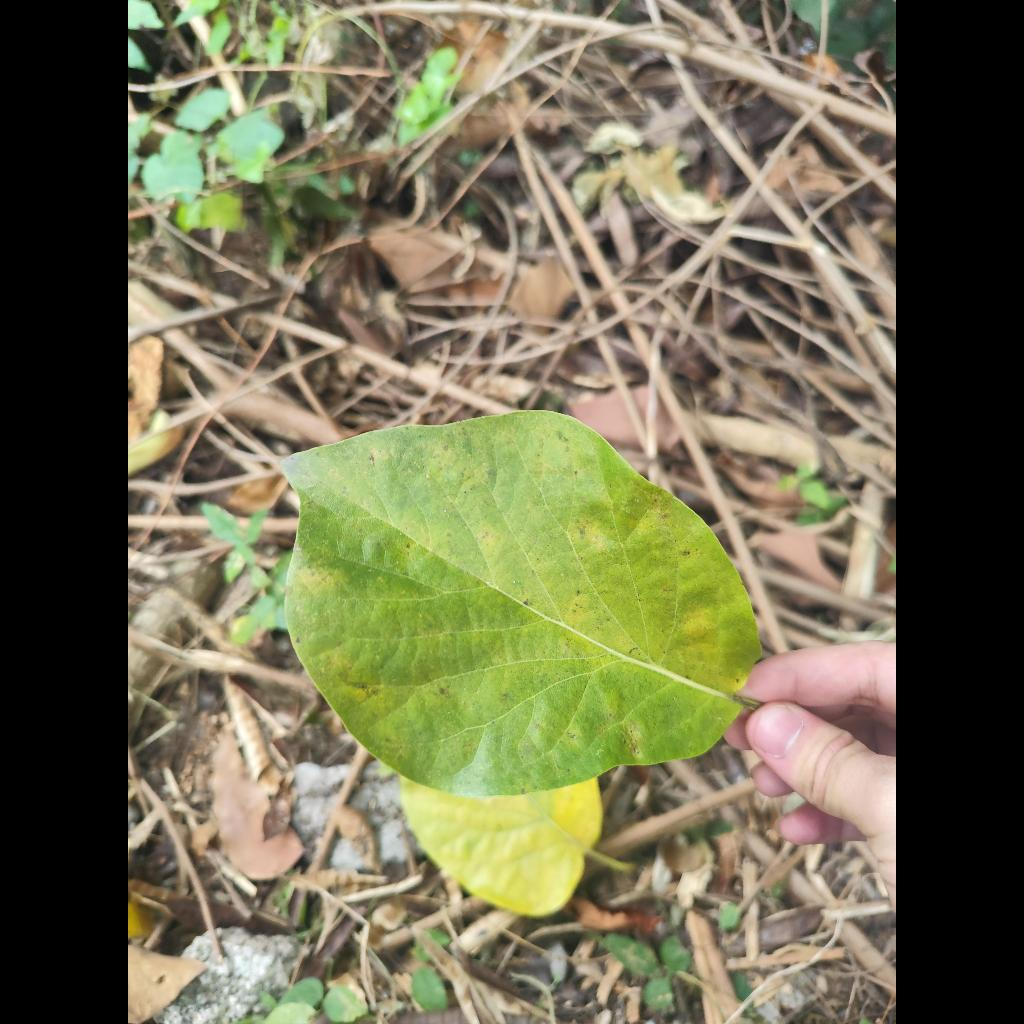nutrient_deficiency: (284, 411, 760, 797)
